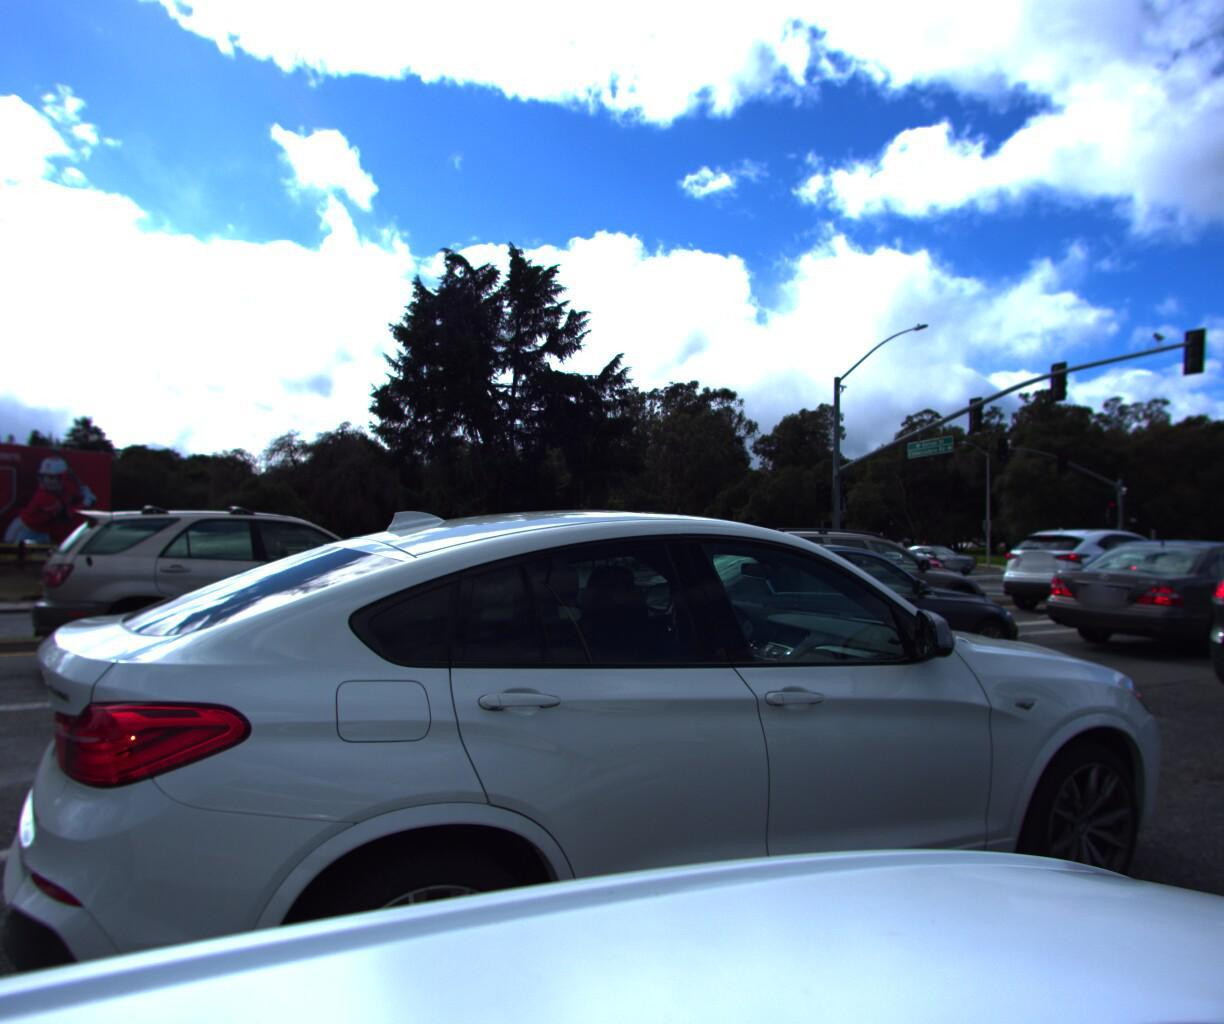car: (0, 473, 1187, 1024), (10, 498, 478, 696), (600, 535, 1027, 720), (695, 522, 995, 650), (1032, 535, 1224, 666), (984, 526, 1214, 622), (331, 536, 535, 613), (1194, 496, 1224, 768), (890, 541, 977, 574), (869, 546, 950, 580), (691, 548, 748, 573), (642, 548, 689, 569)
